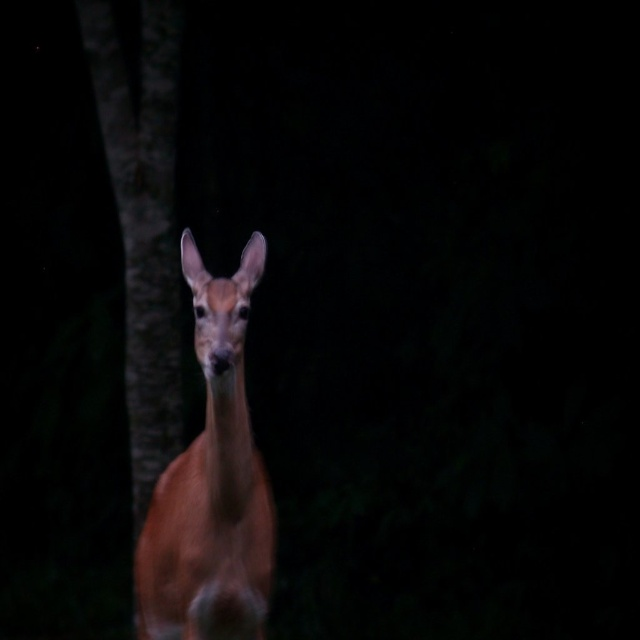Deer: (133, 227, 277, 640)
